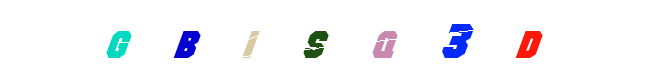3: (408, 0, 488, 80)
B: (147, 0, 227, 80)
D: (489, 0, 569, 80)
G: (78, 0, 158, 80)
I: (275, 0, 355, 80)
Q: (311, 0, 391, 80)
S: (286, 0, 366, 80)
